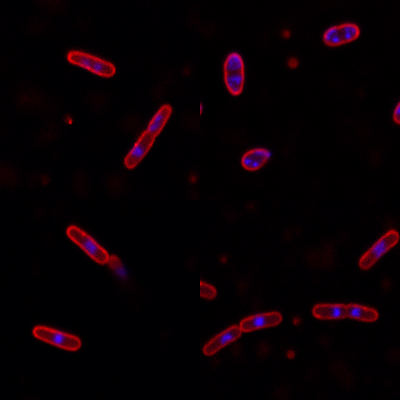MP265: (222, 50, 247, 96), (320, 21, 360, 47)
Nalidixate: (200, 310, 283, 357), (121, 104, 172, 171), (356, 229, 400, 271), (311, 301, 379, 323), (30, 324, 82, 352), (66, 49, 115, 78)
Oblique: (65, 222, 129, 282), (239, 147, 272, 172)
Vesicle: (286, 55, 300, 70), (217, 253, 230, 266), (283, 348, 296, 360), (289, 315, 302, 326), (280, 28, 292, 39)
